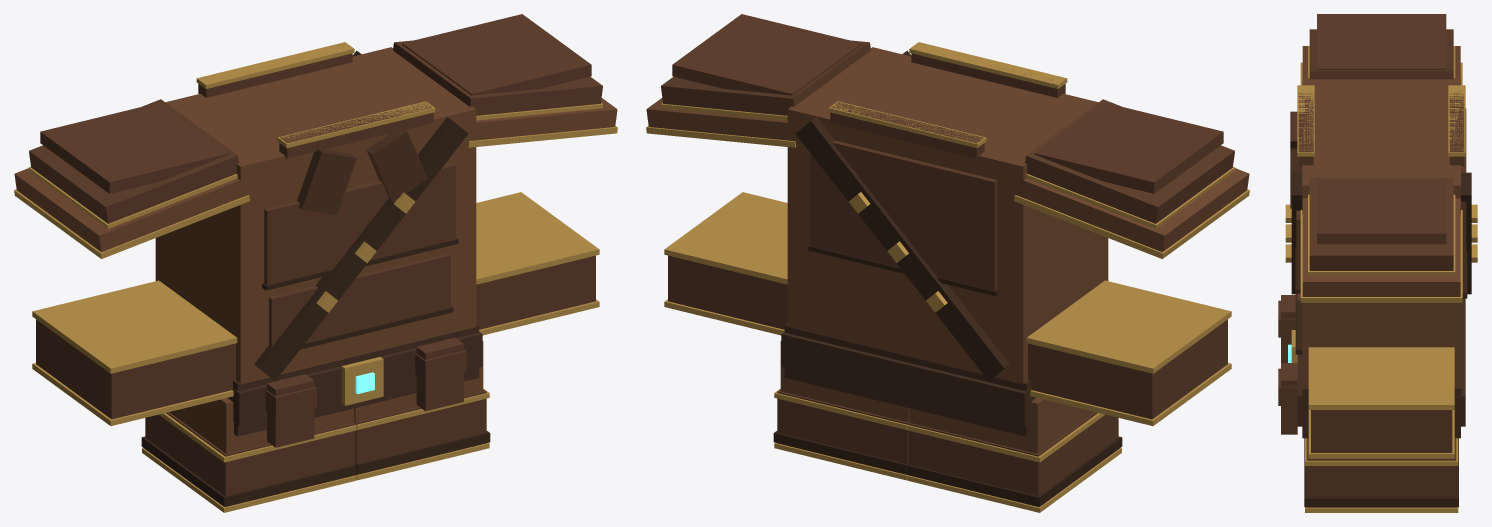
3 views of the same model, side by side, from view 1: azimuth 30°, elevation 25°; view 2: azimuth 150°, elevation 25°; view 3: azimuth 270°, elevation 25° (orthographic). The views are drawn at different scales.
Visible parts, largest first — view 1: leather-coat; view 2: leather-coat; view 3: leather-coat.
Part boxes in pixels (x1=…): leather-coat: x1=14, y1=14, x2=617, y2=512; leather-coat: x1=646, y1=14, x2=1249, y2=512; leather-coat: x1=1278, y1=14, x2=1477, y2=512.
Size of the model in its own units: 1.21 by 0.797 by 0.4312.
